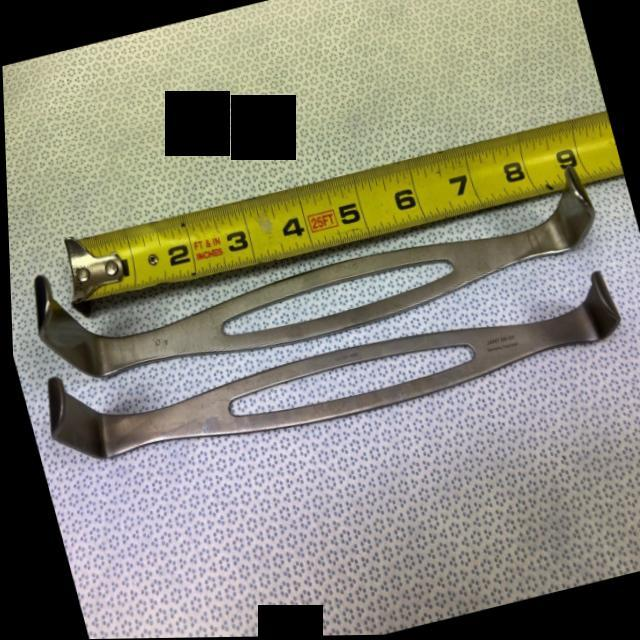Army Navy Retractor: (12, 128, 614, 403), (26, 234, 638, 498)
